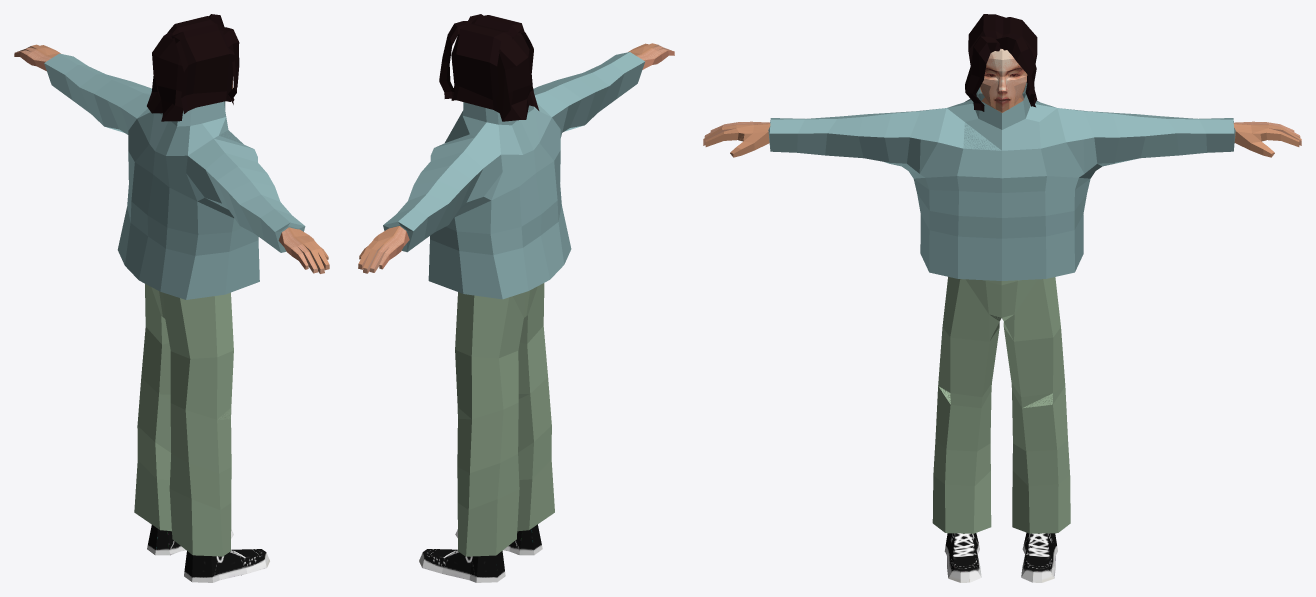
Rendered from jonnoparenting.gltf.
3 renders of one model, left to right at view 1: azimuth 30°, elevation 25°; view 2: azimuth 150°, elevation 25°; view 3: azimuth 270°, elevation 25°, orthographic.
Parts seen in each view (by area): view 1: Cube.016, Cube.015, Plane.022, Cube.014, Plane.020, Cube.017, Plane.021, Plane.024; view 2: Cube.016, Cube.015, Plane.024, Cube.014, Plane.020, Cube.017, Plane.023, Plane.022; view 3: Cube.016, Cube.015, Cube.017, Cube.014, Plane.021, Plane.023, Plane.022, Plane.024.
Part boxes in pixels (x1,y1,x2,y2): Cube.016: [44, 53, 305, 299]; Cube.015: [134, 284, 233, 556]; Plane.022: [171, 23, 234, 113]; Cube.014: [147, 525, 269, 582]; Plane.020: [147, 31, 183, 121]; Cube.017: [14, 44, 329, 273]; Plane.021: [222, 27, 239, 104]; Plane.024: [167, 16, 215, 35]; Cube.016: [383, 52, 645, 299]; Cube.015: [455, 283, 554, 556]; Plane.024: [451, 23, 511, 112]; Cube.014: [419, 524, 542, 582]; Plane.020: [495, 33, 539, 121]; Cube.017: [358, 43, 674, 273]; Plane.023: [439, 21, 472, 98]; Plane.022: [471, 15, 533, 91]; Cube.016: [768, 82, 1235, 280]; Cube.015: [932, 277, 1070, 533]; Cube.017: [703, 49, 1301, 157]; Cube.014: [944, 532, 1057, 582]; Plane.021: [965, 36, 1000, 111]; Plane.023: [996, 33, 1036, 107]; Plane.022: [968, 14, 1005, 95]; Plane.024: [1001, 17, 1037, 106].
Size of the model in its own units: 1.06 by 4.9 by 4.97.
9 materials, 2 textured.
